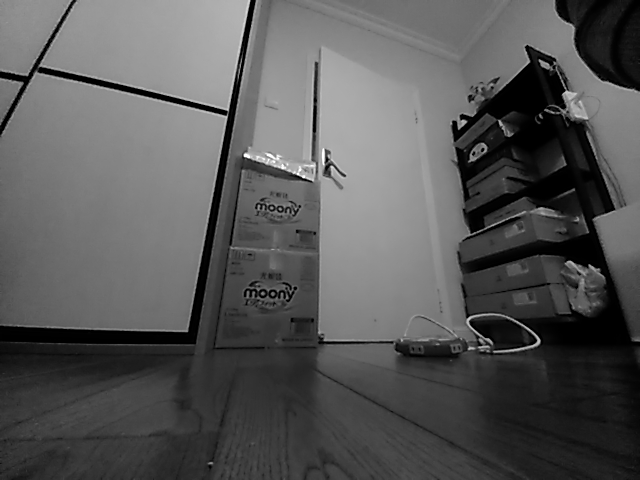wire: (401, 310, 542, 355)
